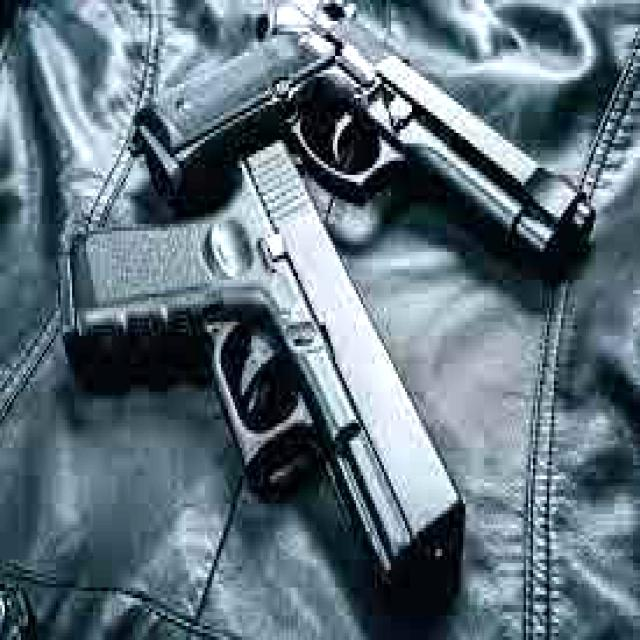semi automatic: (53, 0, 602, 604)
